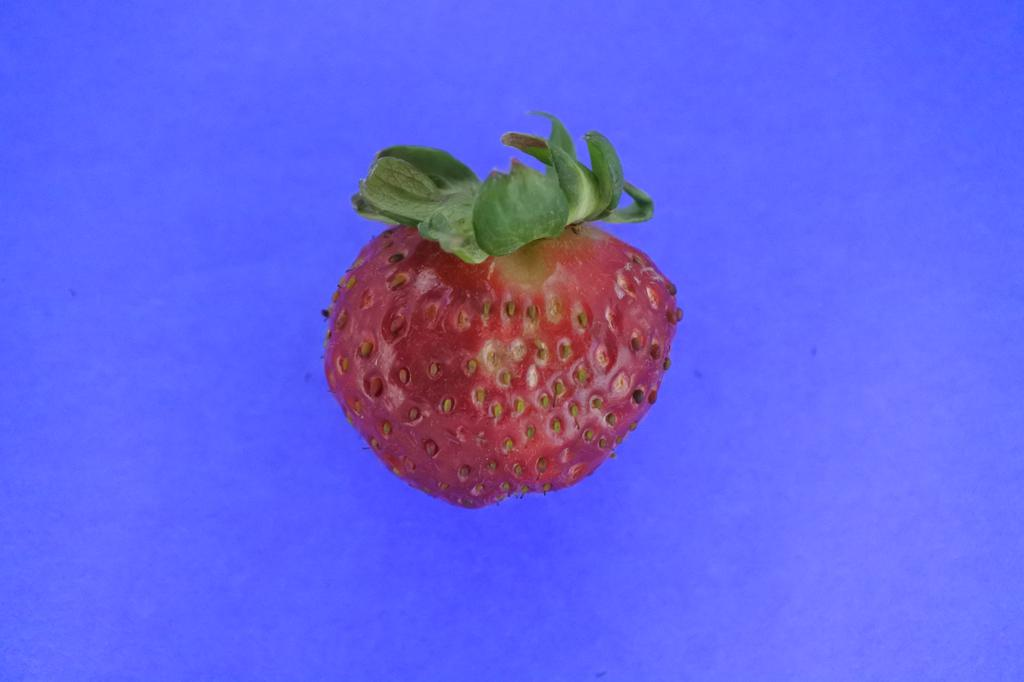red strawberry: (320, 111, 683, 512)
